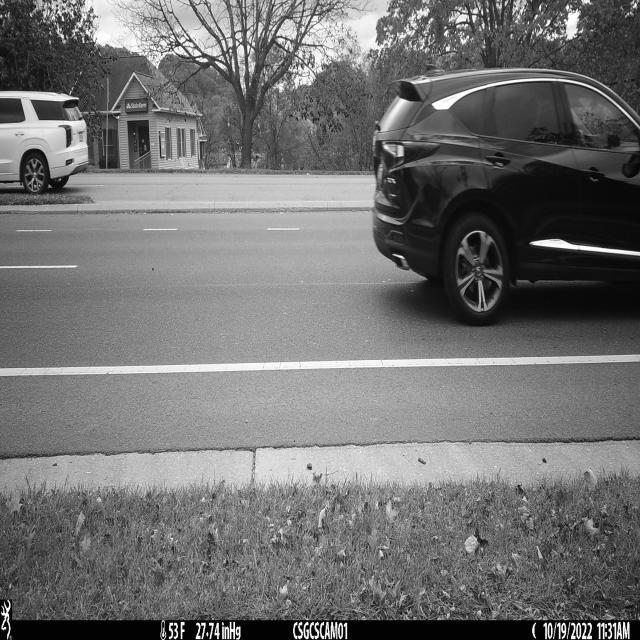SUV: (371, 68, 640, 327)
